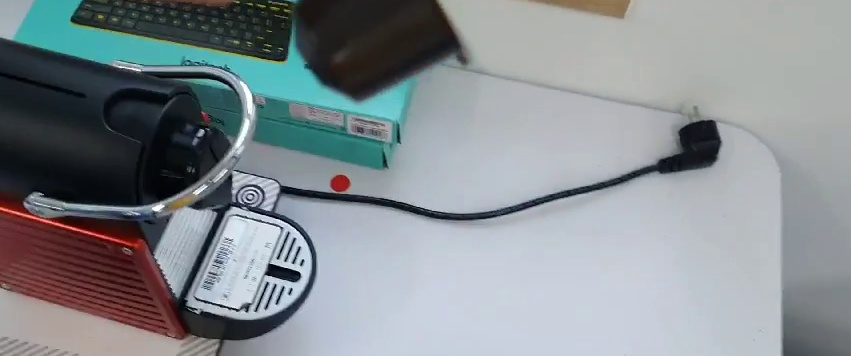capsule_4: (288, 1, 474, 102)
